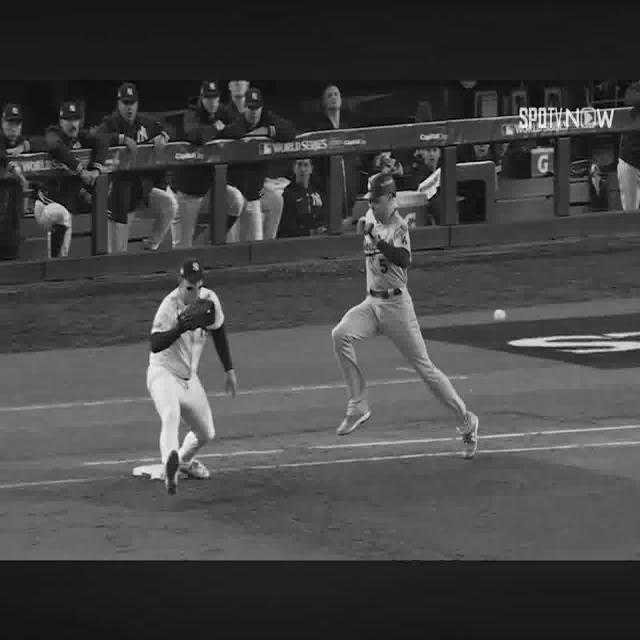base: (132, 463, 165, 480)
baseball: (494, 308, 505, 322)
baseball_glove: (178, 298, 215, 332)
shoe: (336, 406, 371, 435), (464, 413, 479, 460), (179, 458, 210, 480), (168, 446, 179, 493)
